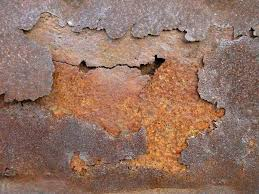rust: (1, 1, 259, 192)
